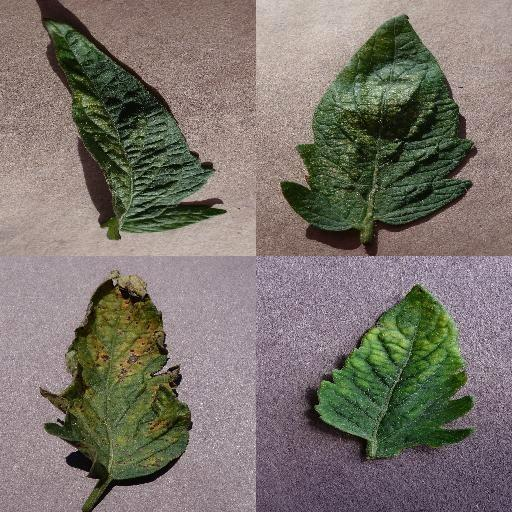Mosaic Virus: (310, 282, 476, 456)
Septoria: (40, 270, 193, 482)
Spider Mites: (280, 15, 474, 233), (44, 19, 226, 241)
